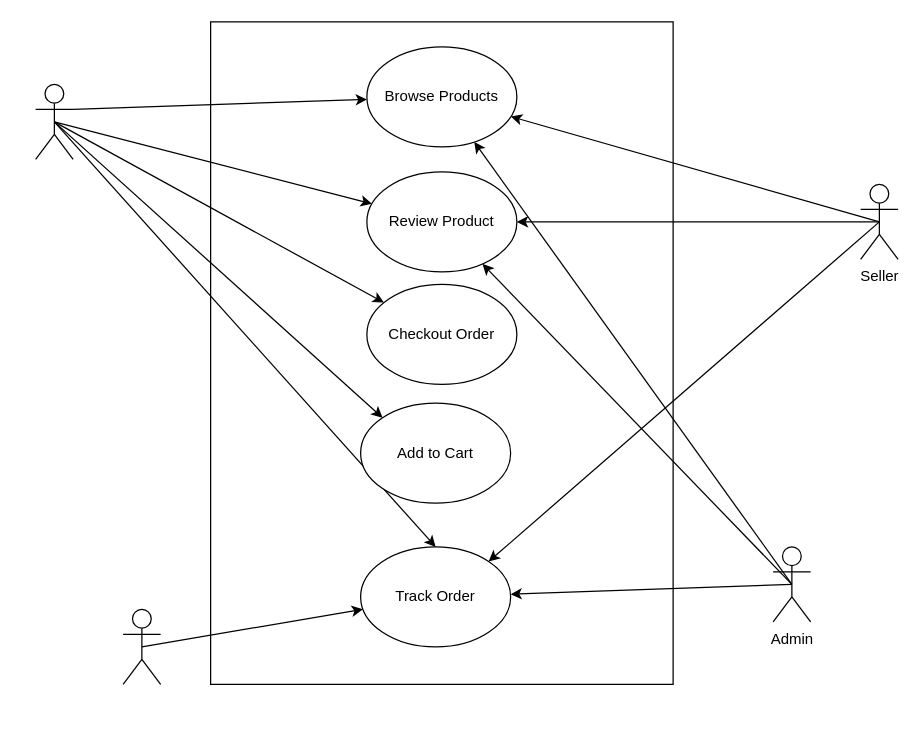
Some shapes in this 920 by 733 pixel diagram are drawn without their labels. The centre of each missing label's shape, as x and y in pixels:
Courier: the point at 141,646
Customer: the point at 53,121
